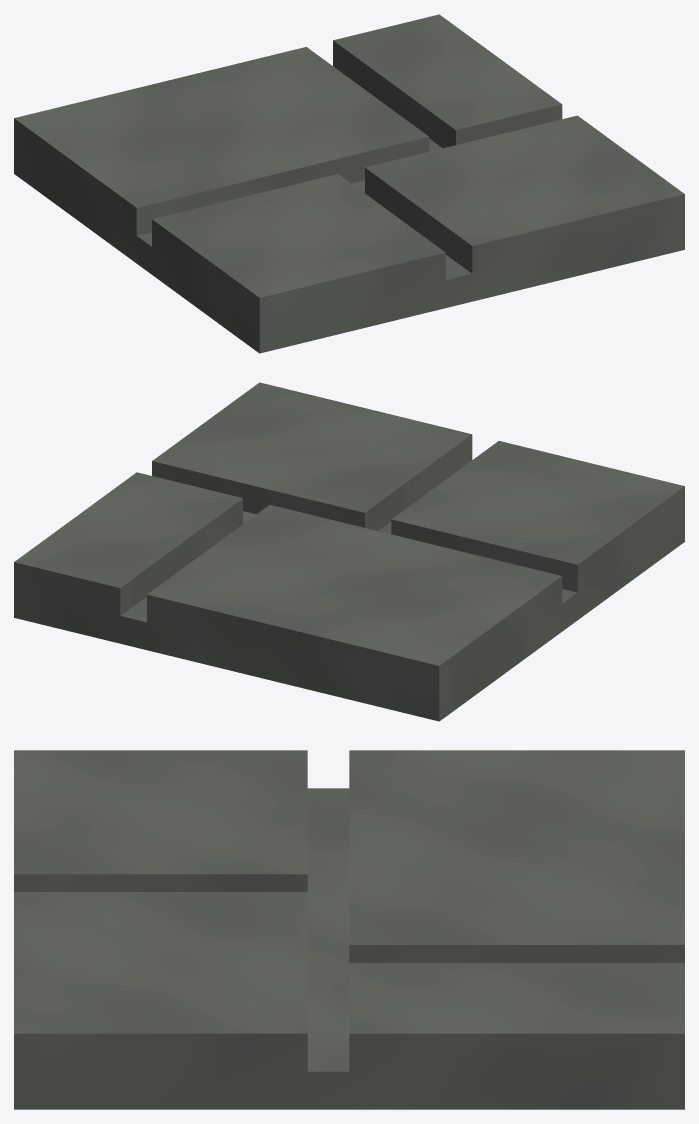
Rendered from FLOOR_A.glb.
The picture shows the model from 3 angles, top to bottom: view 1: azimuth 30°, elevation 25°; view 2: azimuth 150°, elevation 25°; view 3: azimuth 270°, elevation 25°; orthographic projection. The views are drawn at different scales.
Visible parts, largest first — view 1: FLOOR_A; view 2: FLOOR_A; view 3: FLOOR_A.
Part boxes in pixels (x1,y1,x2,y2): FLOOR_A: (14,14,684,353); FLOOR_A: (14,382,684,721); FLOOR_A: (14,750,684,1109).
Size of the model in its own units: 2 by 0.25 by 2.
Materials: 1 (1 with a texture image).
